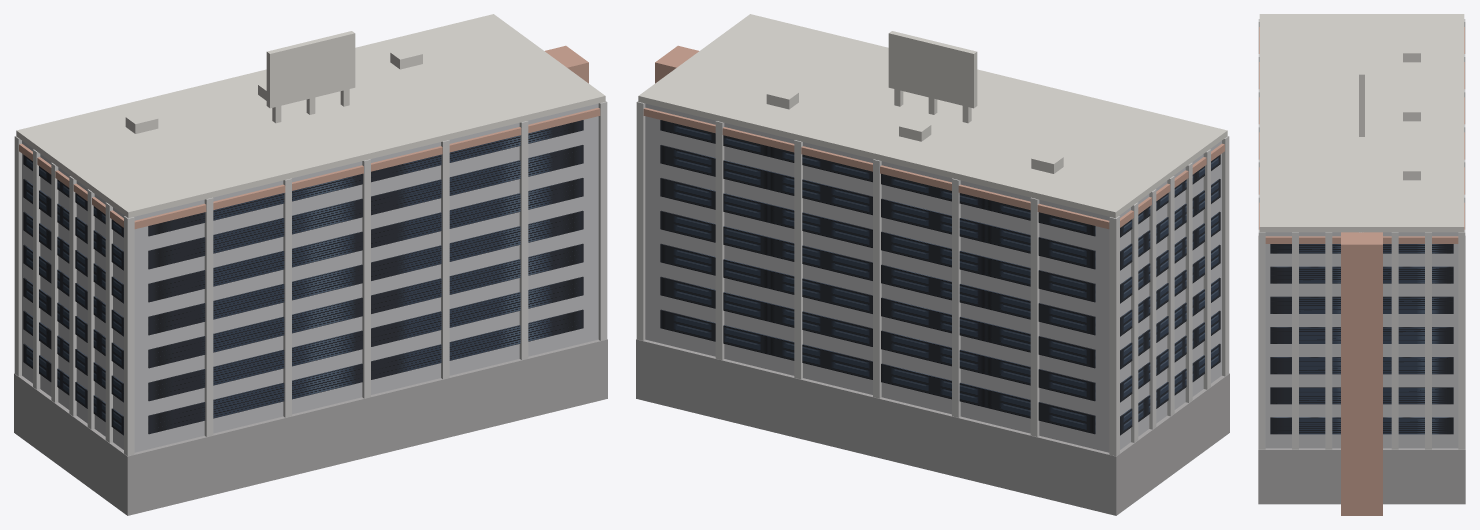
The model's file is skyline-tower-midrise30-billboard.glb.
3 renders of one model, left to right at view 1: azimuth 30°, elevation 25°; view 2: azimuth 150°, elevation 25°; view 3: azimuth 270°, elevation 25°, orthographic. The views are drawn at different scales.
Parts seen in each view (by area): view 1: windows, body-1, parapet, podium, pilasters, roof-detail, crown-band, core; view 2: windows, body-1, parapet, podium, pilasters, roof-detail, crown-band, core; view 3: parapet, body-1, windows, core, pilasters, podium, roof-detail, crown-band.
Part boxes in pixels (x1,y1,x2,y2): windows: [23, 120, 583, 435]; body-1: [22, 103, 598, 452]; parapet: [16, 14, 605, 218]; podium: [14, 339, 607, 515]; pilasters: [14, 101, 607, 456]; roof-detail: [125, 31, 422, 133]; crown-band: [19, 107, 600, 229]; core: [545, 45, 588, 83]; windows: [660, 120, 1220, 435]; body-1: [645, 103, 1221, 452]; parapet: [638, 14, 1227, 218]; podium: [636, 339, 1229, 515]; pilasters: [636, 101, 1229, 456]; roof-detail: [766, 31, 1063, 173]; crown-band: [643, 107, 1224, 229]; core: [655, 45, 698, 83]; parapet: [1259, 14, 1464, 232]; body-1: [1265, 232, 1458, 448]; windows: [1270, 244, 1453, 434]; core: [1341, 232, 1382, 515]; pilasters: [1258, 19, 1465, 449]; podium: [1258, 236, 1465, 504]; roof-detail: [1359, 37, 1420, 180]; crown-band: [1259, 27, 1464, 243].
Size of the model in its own units: 53.6 by 37.75 by 20.8.
Materials: 6 (1 with a texture image).
